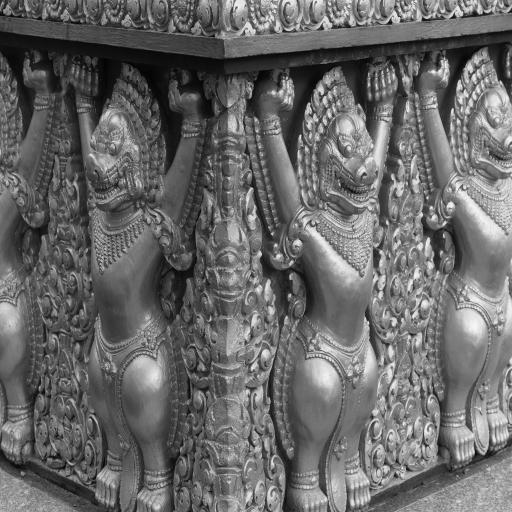than: (240, 56, 410, 512), (59, 37, 219, 512), (406, 40, 512, 481), (0, 20, 67, 476)
